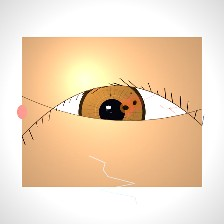foreign_body_visible: (123, 93, 147, 112)
